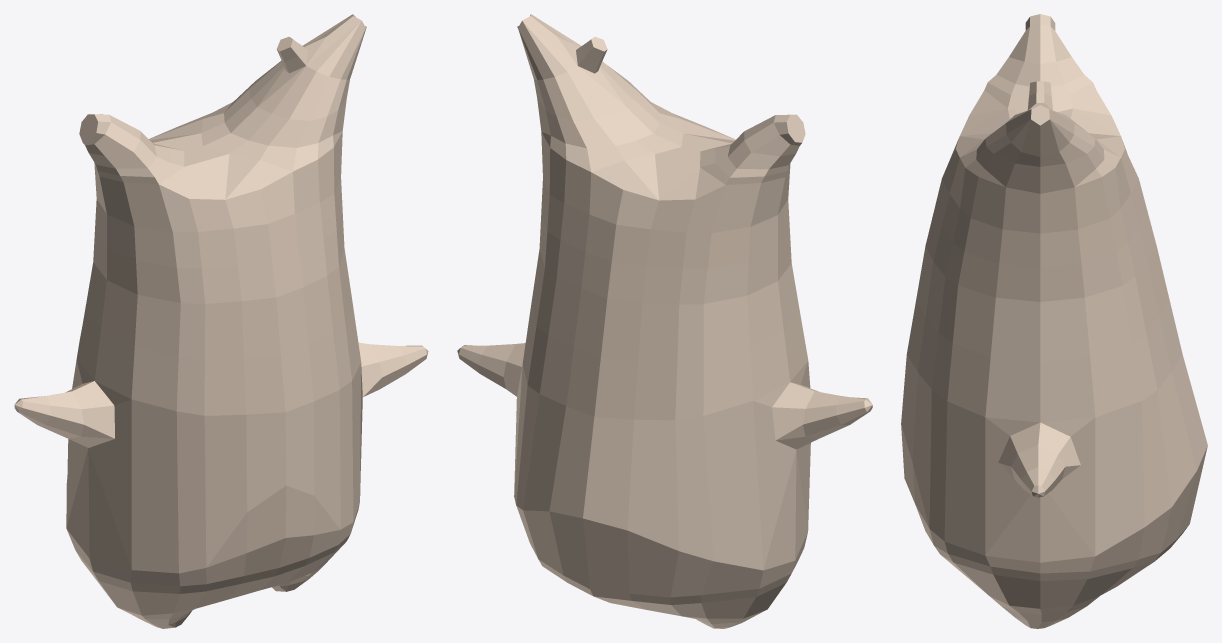
The model's file is frame_0146.obj.
3 views of the same model, side by side, from view 1: azimuth 30°, elevation 25°; view 2: azimuth 150°, elevation 25°; view 3: azimuth 270°, elevation 25° (orthographic).
Visible parts, largest first — view 1: korok; view 2: korok; view 3: korok.
Boxes of the visible parts, box(x1,y1,x2,y2) form: korok: box(14, 14, 428, 628); korok: box(457, 14, 872, 628); korok: box(901, 14, 1207, 628).
Size of the model in its own units: 1.67 by 2.17 by 1.07.
